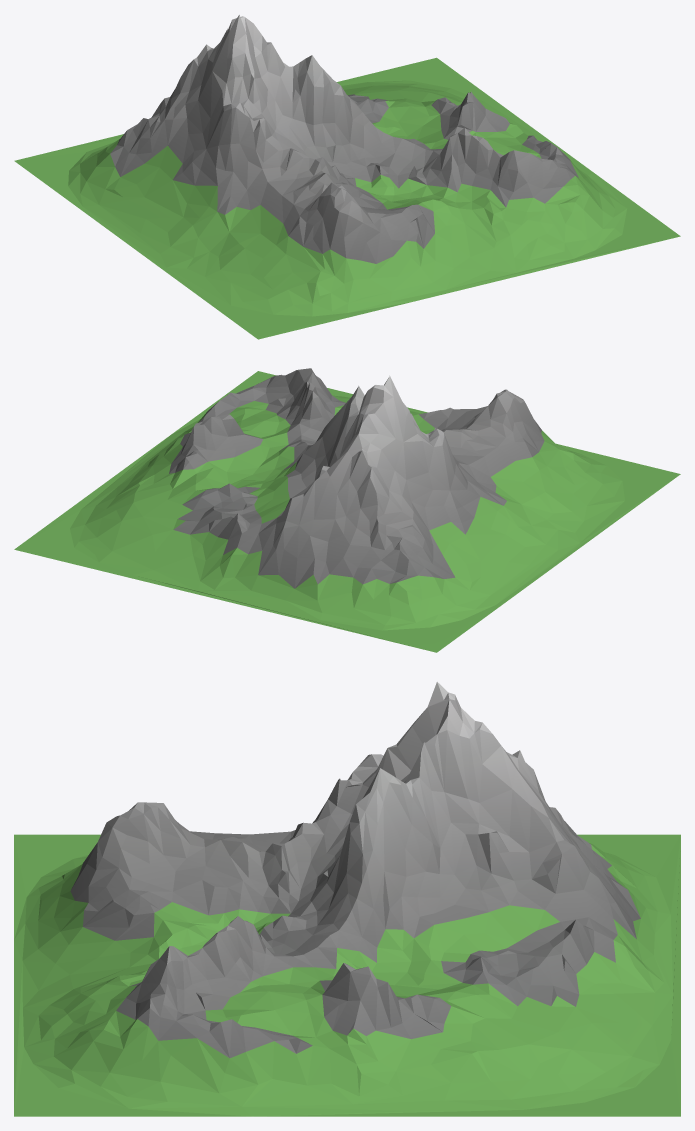
The model's file is SM_Nature_Landscape_10.fbx.
3 views of the same model, one above another, from view 1: azimuth 30°, elevation 25°; view 2: azimuth 150°, elevation 25°; view 3: azimuth 270°, elevation 25° (orthographic). The views are drawn at different scales.
Visible parts, largest first — view 1: SM_Nature_Landscape_10; view 2: SM_Nature_Landscape_10; view 3: SM_Nature_Landscape_10.
Part boxes in pixels (x1,y1,x2,y2): SM_Nature_Landscape_10: [14, 14, 680, 339]; SM_Nature_Landscape_10: [14, 368, 680, 652]; SM_Nature_Landscape_10: [14, 682, 680, 1116].
Size of the model in its own units: 100 by 40.37 by 100.
